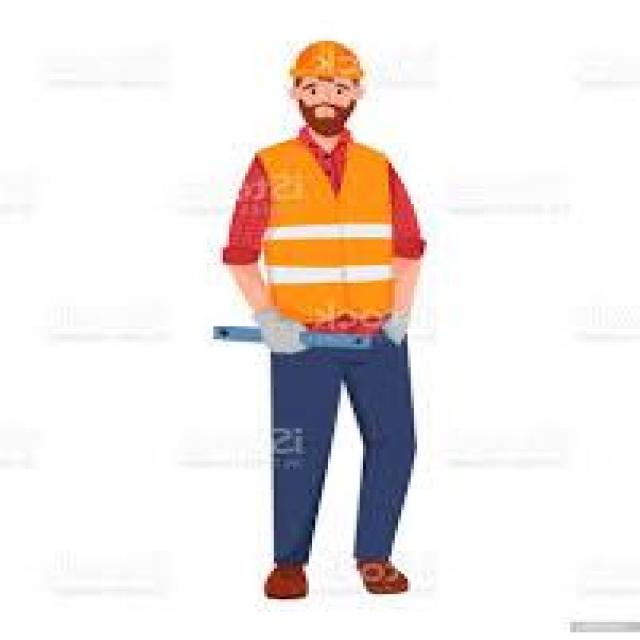Reflective-Jacket: (245, 130, 408, 347)
Safety-Helmet: (277, 36, 369, 86)
